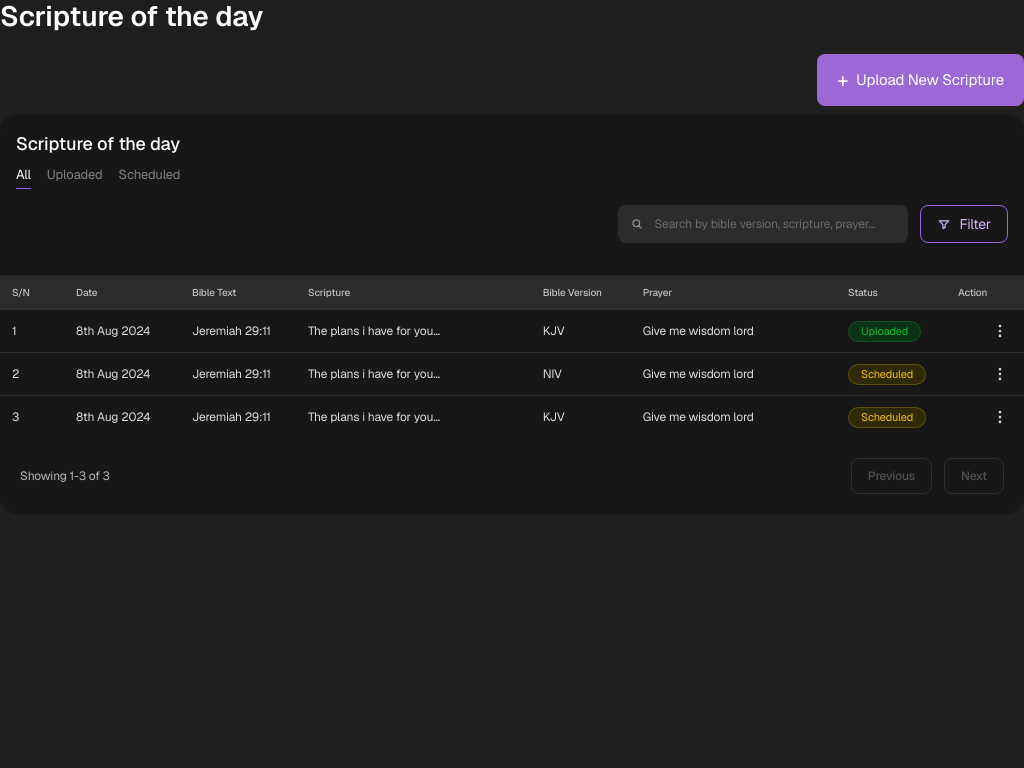
ScriptureOfTheDayPage › opens loaded scripture details without fetching
Click the button named "Open actions for scripture 1" at {"x": 1000, "y": 331}, box [988,319,1012,343]
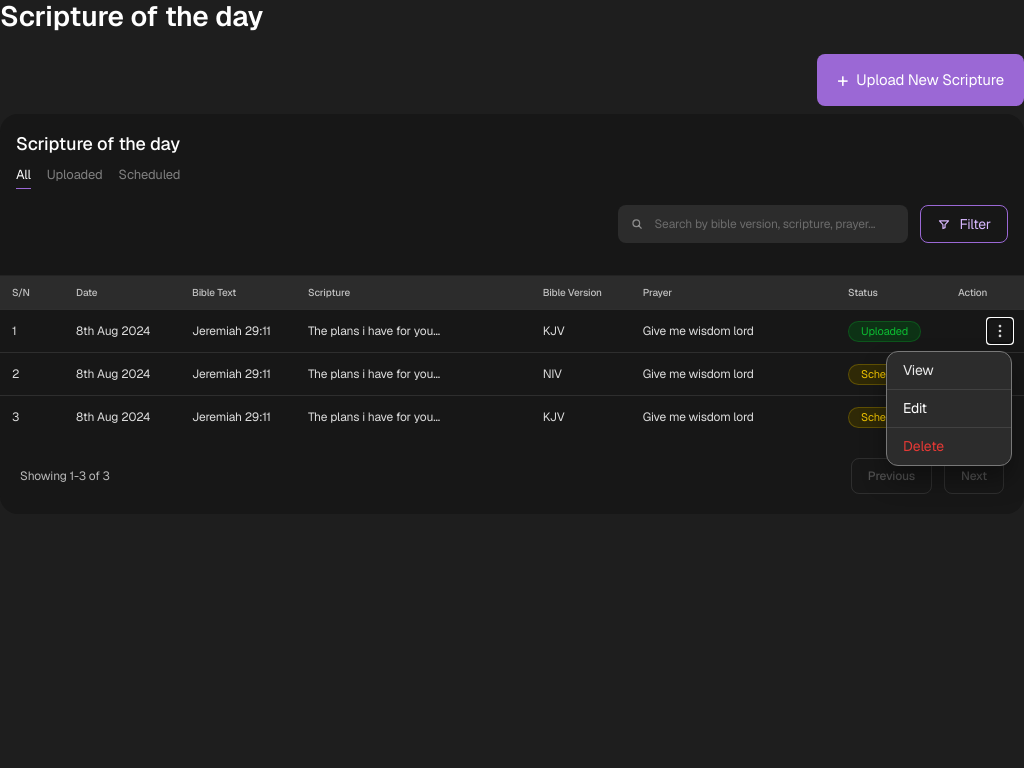
Click the button "View" at {"x": 949, "y": 371}, box [887,352,1011,390]
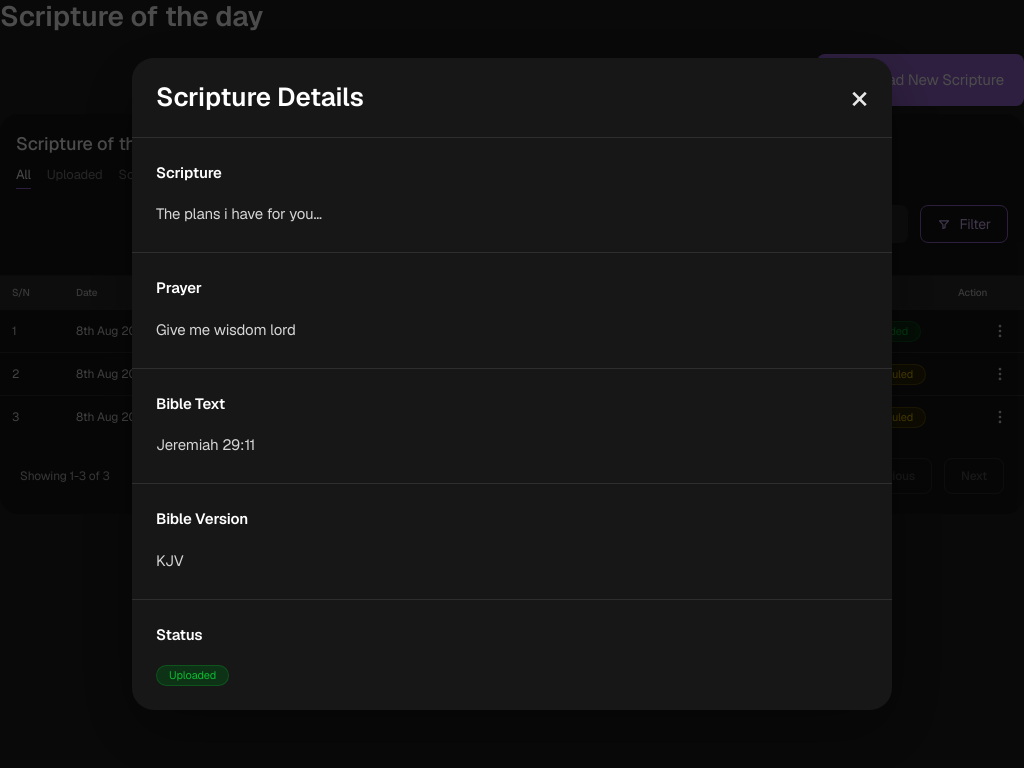
expect the heading "Scripture Details" is shown: met, box [156,78,364,117]
